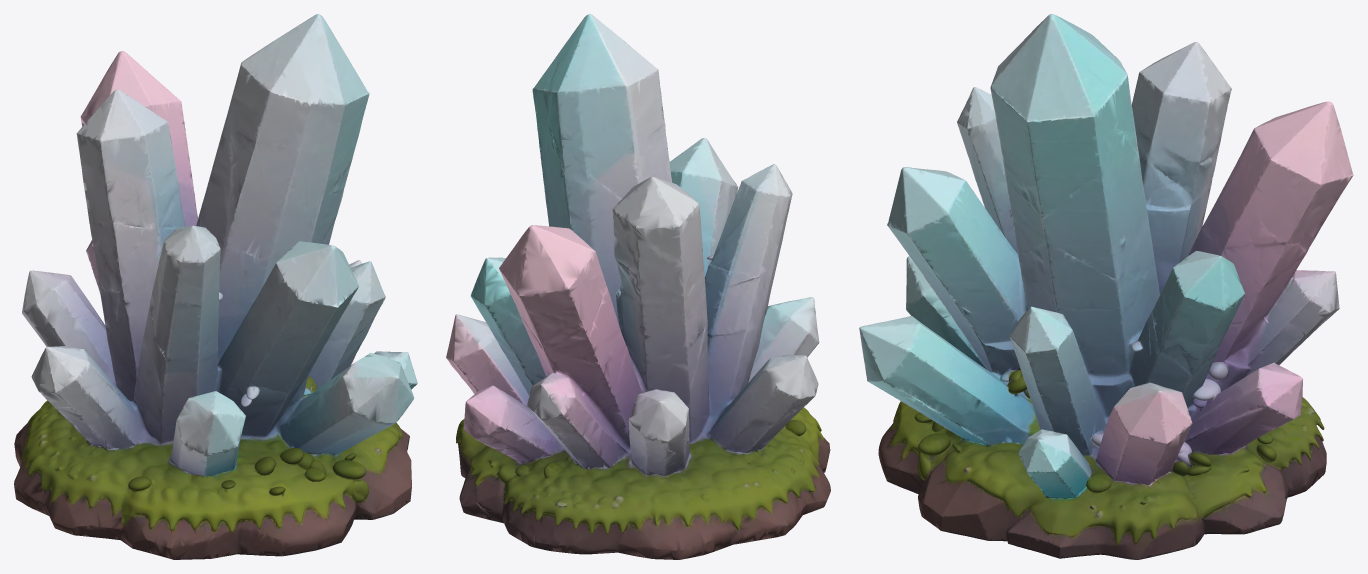
The model's file is cover_crystal.glb.
3 renders of one model, left to right at view 1: azimuth 30°, elevation 25°; view 2: azimuth 150°, elevation 25°; view 3: azimuth 270°, elevation 25°, orthographic. The views are drawn at different scales.
Parts seen in each view (by area): view 1: tripo_node_7b19a761-5750-4832-a614-3a5a0db2a4a4; view 2: tripo_node_7b19a761-5750-4832-a614-3a5a0db2a4a4; view 3: tripo_node_7b19a761-5750-4832-a614-3a5a0db2a4a4.
Boxes of the visible parts, x1,y1,x2,y2 form: tripo_node_7b19a761-5750-4832-a614-3a5a0db2a4a4: (14,14,417,559); tripo_node_7b19a761-5750-4832-a614-3a5a0db2a4a4: (446,14,830,559); tripo_node_7b19a761-5750-4832-a614-3a5a0db2a4a4: (859,14,1353,559).
Bounding box in the file's own units: 0.8175 × 0.9995 × 0.9035.
1 material, 1 textured.
